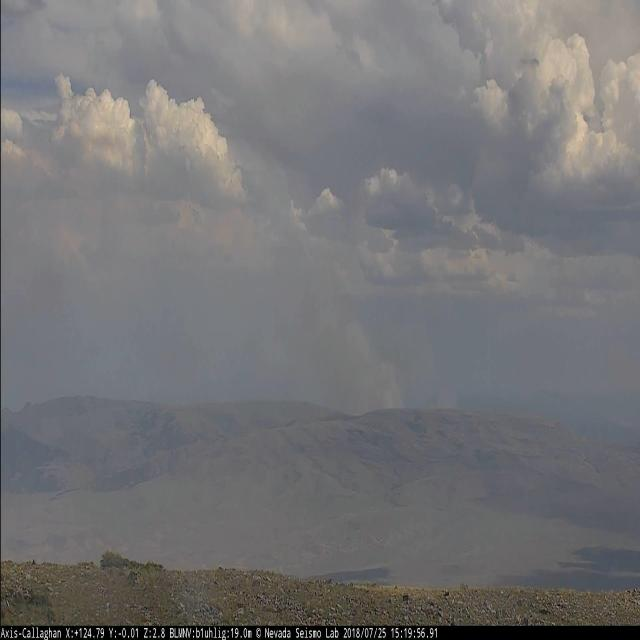smoke: (270, 234, 463, 414)
